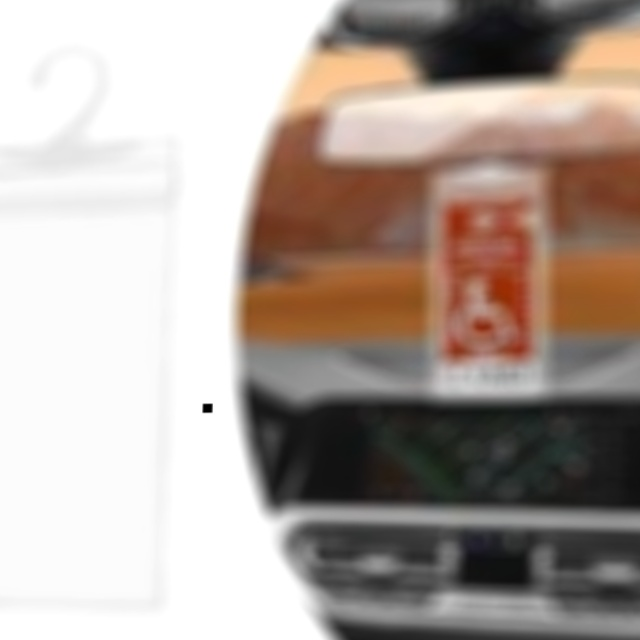ISA: (457, 275, 517, 346)
